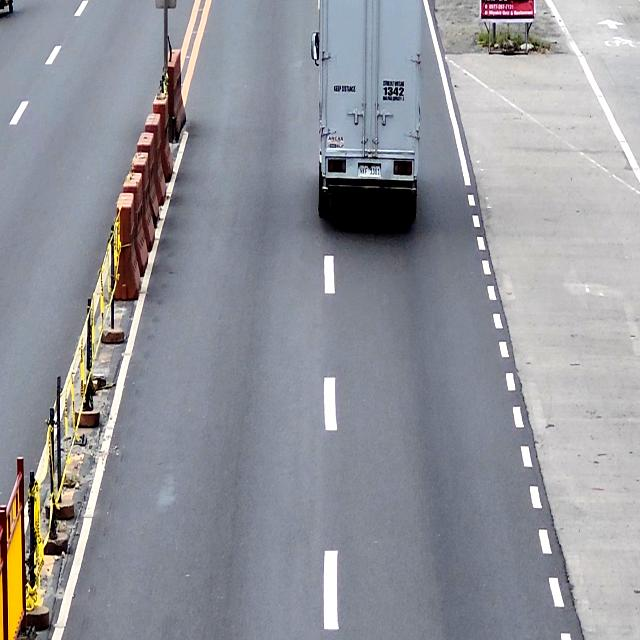License-Plate: (358, 162, 381, 179)
Truck: (310, 0, 422, 223)
